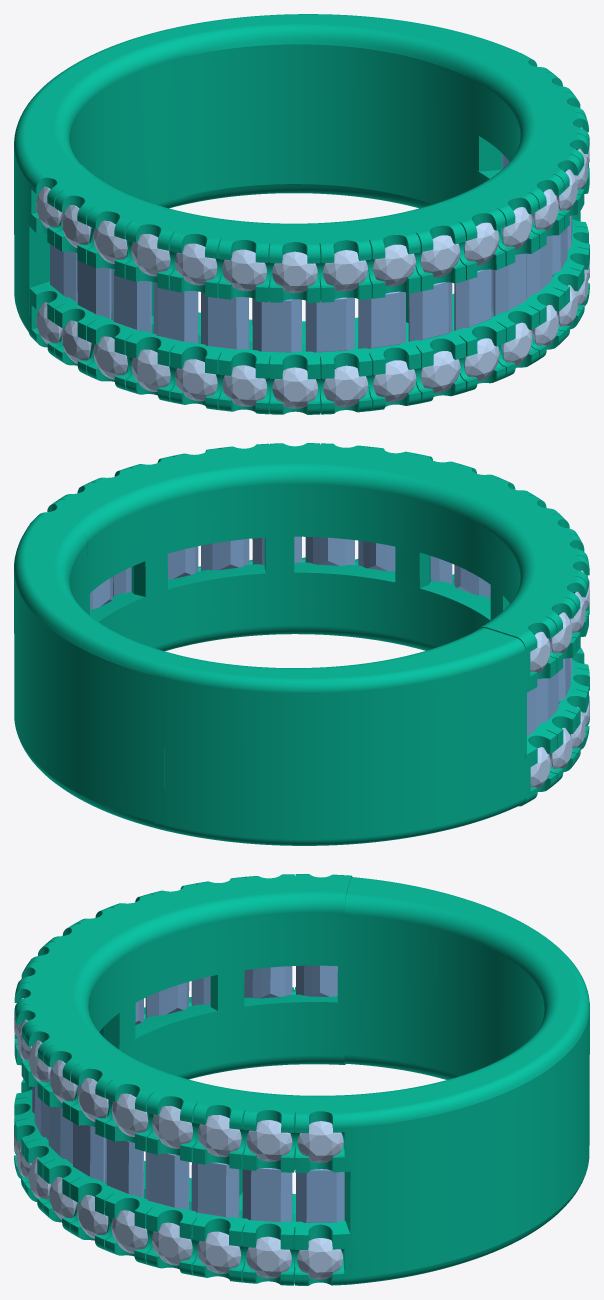
3 renders of one model, top to bottom at view 1: azimuth 30°, elevation 25°; view 2: azimuth 150°, elevation 25°; view 3: azimuth 270°, elevation 25°, orthographic.
Parts seen in each view (by area): view 1: 18 - 07 - 09 - 24 - RPT(base).3dm, Diamond_Round (×26), Diamond_Baguette Straight (×13); view 2: 18 - 07 - 09 - 24 - RPT(base).3dm, Diamond_Baguette Straight (×8), Diamond_Round (×4); view 3: 18 - 07 - 09 - 24 - RPT(base).3dm, Diamond_Baguette Straight (×11), Diamond_Round (×16).
Boxes of the visible parts, bbox=[...] form: 18 - 07 - 09 - 24 - RPT(base).3dm: bbox=[14, 14, 589, 414]; Diamond_Round (×26): bbox=[36, 186, 558, 408]; Diamond_Baguette Straight (×13): bbox=[50, 227, 567, 352]; 18 - 07 - 09 - 24 - RPT(base).3dm: bbox=[14, 443, 589, 845]; Diamond_Baguette Straight (×8): bbox=[167, 536, 558, 727]; Diamond_Round (×4): bbox=[530, 612, 572, 789]; 18 - 07 - 09 - 24 - RPT(base).3dm: bbox=[14, 874, 589, 1285]; Diamond_Baguette Straight (×11): bbox=[48, 965, 344, 1222]; Diamond_Round (×16): bbox=[28, 1040, 343, 1279].
Bounding box in the file's own units: 2.78 × 0.9007 × 2.73.
